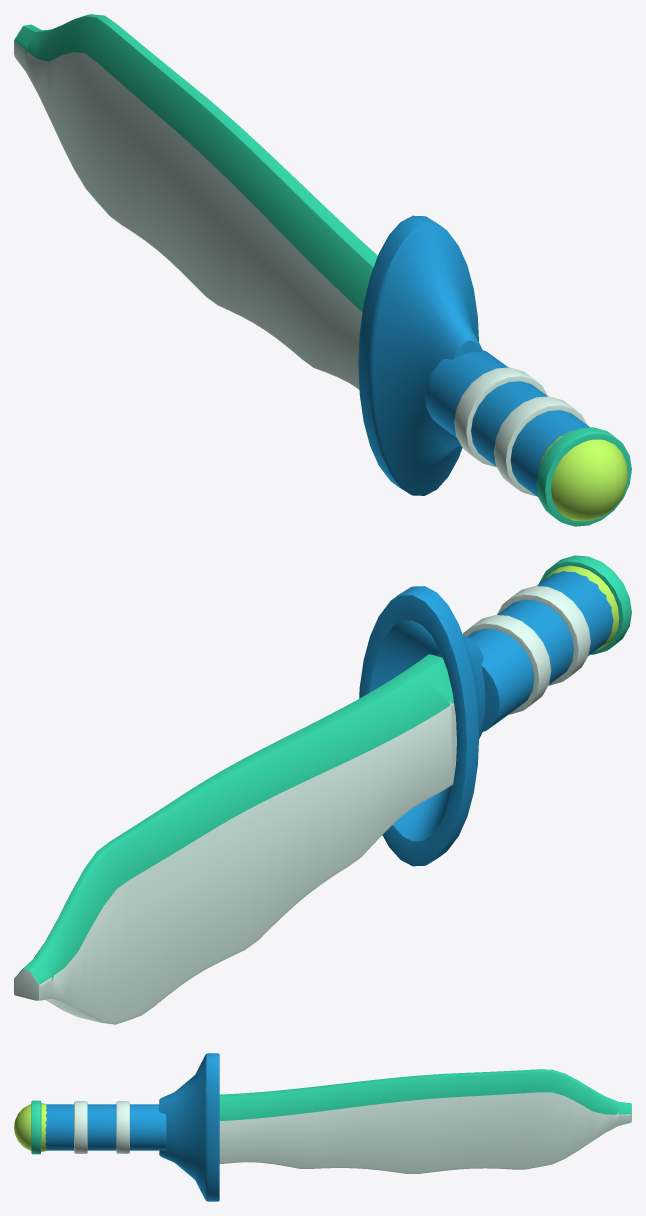
The model's file is DrownedBellwarden.glb.
3 renders of one model, top to bottom at view 1: azimuth 30°, elevation 25°; view 2: azimuth 150°, elevation 25°; view 3: azimuth 270°, elevation 25°, orthographic. The views are drawn at different scales.
Parts seen in each view (by area): view 1: DrownedBellwarden; view 2: DrownedBellwarden; view 3: DrownedBellwarden.
Boxes of the visible parts, box(x1,y1,x2,y2) form: DrownedBellwarden: box(14, 14, 631, 526); DrownedBellwarden: box(14, 555, 631, 1024); DrownedBellwarden: box(14, 1053, 631, 1201).
Size of the model in its own units: 0.1092 by 0.26 by 1.
1 material, 1 textured.
